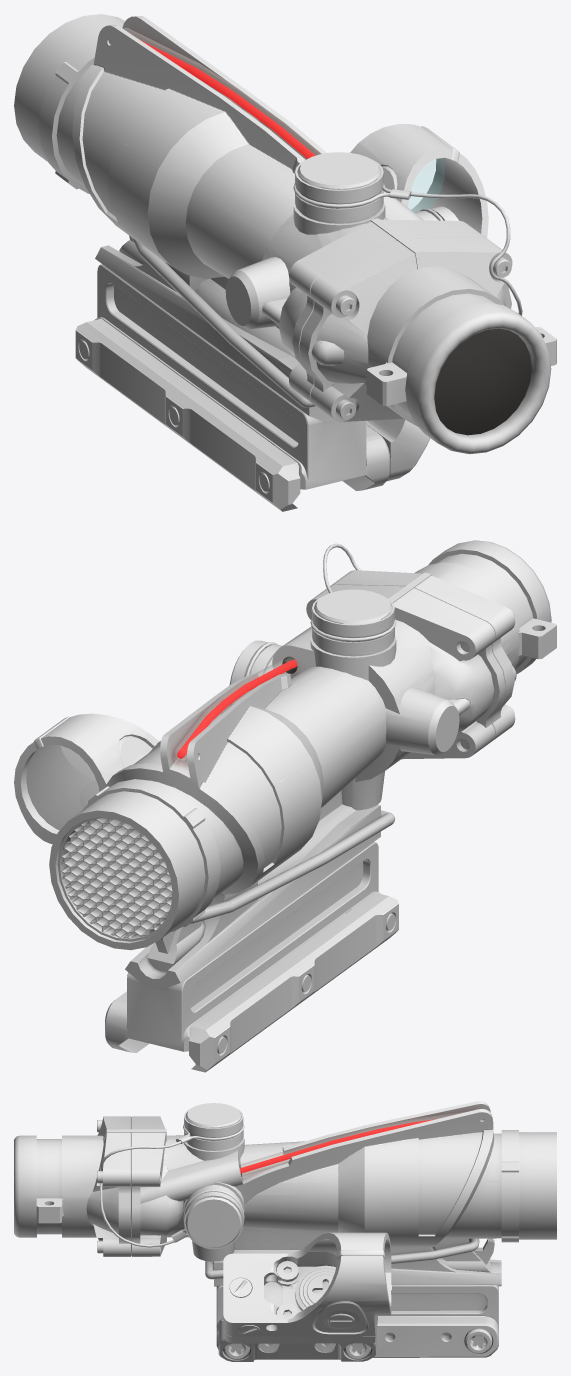
Rendered from unity_tactical_fasttm_trijicon.glb.
3 renders of one model, top to bottom at view 1: azimuth 30°, elevation 25°; view 2: azimuth 150°, elevation 25°; view 3: azimuth 270°, elevation 25°, orthographic. The views are drawn at different scales.
Parts seen in each view (by area): view 1: 3DGeom-12, 3DGeom-24, 3DGeom-19, 3DGeom-4, Mesh21_2_M_0028_AntiqueWhite_0, 3DGeom-5, 3DGeom-23, 3DGeom-2, 3DGeom-10, 3DGeom-13, 3DGeom-3, 3DGeom-21 (+1 smaller); view 2: 3DGeom-12, 3DGeom-24, 3DGeom-19, 3DGeom-5, Mesh13_2_M_0038_Orange_0, 3DGeom-23, 3DGeom-2, 3DGeom-21, 3DGeom-3, 3DGeom-13; view 3: 3DGeom-12, 3DGeom-5, 3DGeom-21, 3DGeom-24, 3DGeom-10, 3DGeom-2, 3DGeom-8, 3DGeom-7, 3DGeom-13, 3DGeom-23, 3DGeom-3, 3DGeom-20 (+3 smaller).
Boxes of the visible parts, x1,y1,x2,y2 form: 3DGeom-12: [14, 14, 556, 453]; 3DGeom-24: [94, 264, 366, 489]; 3DGeom-19: [75, 318, 300, 511]; 3DGeom-4: [434, 328, 531, 435]; Mesh21_2_M_0028_AntiqueWhite_0: [434, 329, 531, 434]; 3DGeom-5: [350, 124, 488, 237]; 3DGeom-23: [131, 237, 315, 407]; 3DGeom-2: [122, 27, 321, 159]; 3DGeom-10: [366, 418, 430, 481]; 3DGeom-13: [293, 183, 522, 315]; 3DGeom-3: [140, 40, 315, 158]; 3DGeom-21: [343, 425, 390, 490]; 3DGeom-12: [49, 540, 556, 989]; 3DGeom-24: [127, 842, 381, 1051]; 3DGeom-19: [189, 892, 398, 1072]; 3DGeom-5: [14, 713, 159, 844]; Mesh13_2_M_0038_Orange_0: [26, 744, 99, 830]; 3DGeom-23: [190, 810, 394, 923]; 3DGeom-2: [172, 656, 297, 763]; 3DGeom-21: [105, 991, 149, 1053]; 3DGeom-3: [177, 659, 297, 758]; 3DGeom-13: [245, 543, 396, 676]; 3DGeom-12: [14, 1101, 556, 1286]; 3DGeom-5: [223, 1232, 391, 1336]; 3DGeom-21: [216, 1316, 498, 1357]; 3DGeom-24: [216, 1285, 498, 1327]; 3DGeom-10: [218, 1320, 375, 1361]; 3DGeom-2: [239, 1111, 466, 1176]; 3DGeom-8: [223, 1316, 377, 1343]; 3DGeom-7: [295, 1265, 335, 1310]; 3DGeom-13: [100, 1123, 244, 1247]; 3DGeom-23: [205, 1238, 479, 1279]; 3DGeom-3: [240, 1119, 435, 1173]; 3DGeom-20: [465, 1328, 492, 1353].
Size of the model in its own units: 0.8114 by 0.7962 by 1.7.
Materials: 10 (1 with a texture image).
